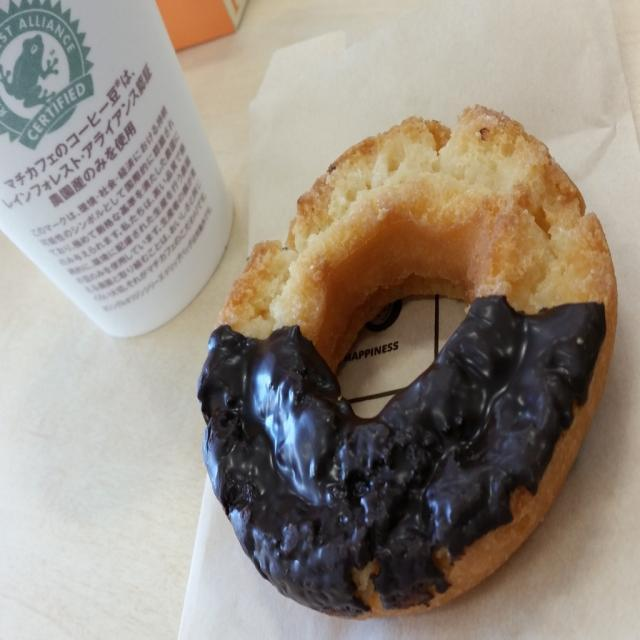Bagel: (196, 101, 619, 624)
